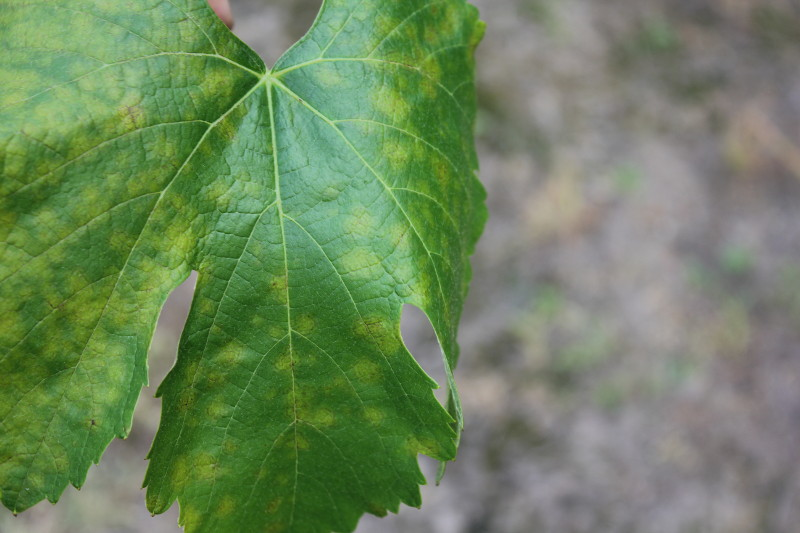downy: (2, 2, 126, 431), (132, 9, 274, 271), (332, 1, 483, 160), (202, 314, 348, 439), (354, 365, 439, 455), (334, 202, 413, 287), (171, 452, 241, 524), (423, 159, 481, 240), (4, 437, 75, 488), (353, 309, 402, 360)
